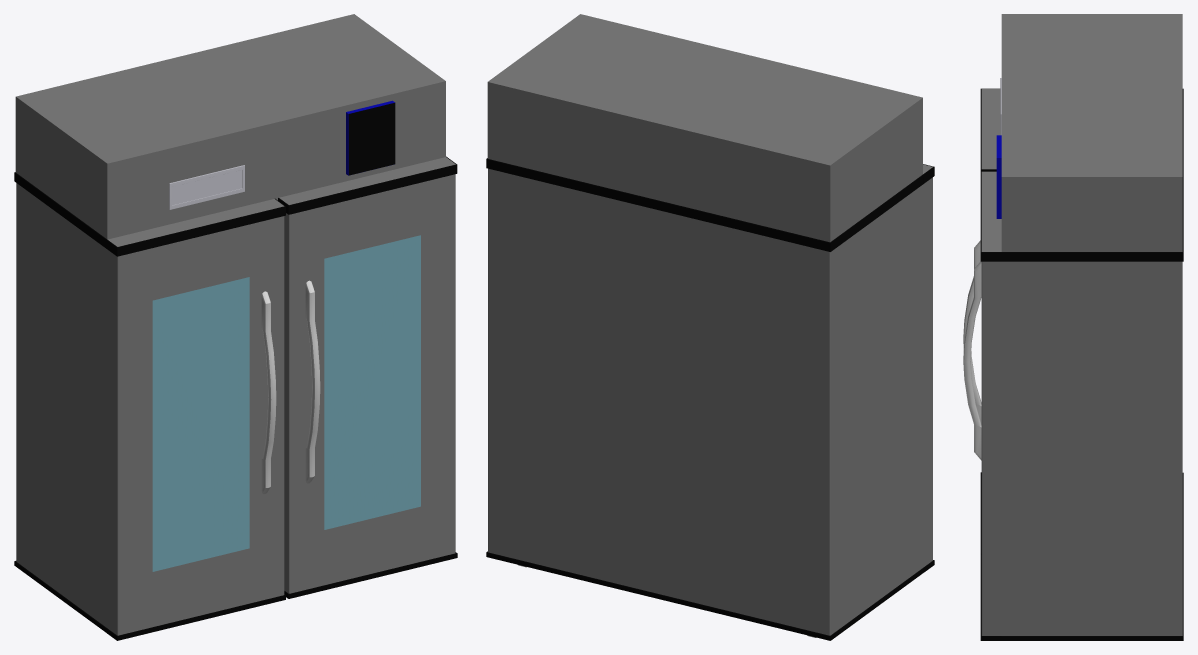
The model's file is blood_bank_refrigerator.glb.
3 views of the same model, side by side, from view 1: azimuth 30°, elevation 25°; view 2: azimuth 150°, elevation 25°; view 3: azimuth 270°, elevation 25° (orthographic). The views are drawn at different scales.
Visible parts, largest first — view 1: Obj_Fridge_Body_Main, Obj_Fridge_DoorL, Obj_Fridge_DoorR; view 2: Obj_Fridge_Body_Main, Obj_Fridge_DoorL; view 3: Obj_Fridge_Body_Main, Obj_Fridge_DoorR, Obj_Fridge_DoorL.
Part boxes in pixels (left/top/right/bottom): Obj_Fridge_Body_Main: left=14, top=14, right=446, bottom=632; Obj_Fridge_DoorL: left=106, top=198, right=285, bottom=640; Obj_Fridge_DoorR: left=278, top=157, right=457, bottom=598; Obj_Fridge_Body_Main: left=486, top=14, right=923, bottom=640; Obj_Fridge_DoorL: left=923, top=164, right=934, bottom=572; Obj_Fridge_Body_Main: left=996, top=14, right=1183, bottom=640; Obj_Fridge_DoorR: left=963, top=171, right=1001, bottom=640; Obj_Fridge_DoorL: left=963, top=88, right=1000, bottom=554.
Size of the model in its own units: 38.7 by 52 by 21.99.
